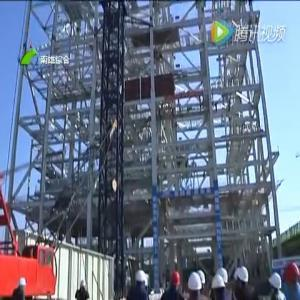red: (169, 270, 182, 289)
white: (188, 271, 203, 296), (268, 273, 283, 294), (212, 274, 226, 296), (237, 266, 249, 287), (136, 269, 146, 288)
